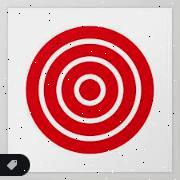target_red: (25, 24, 154, 154)
